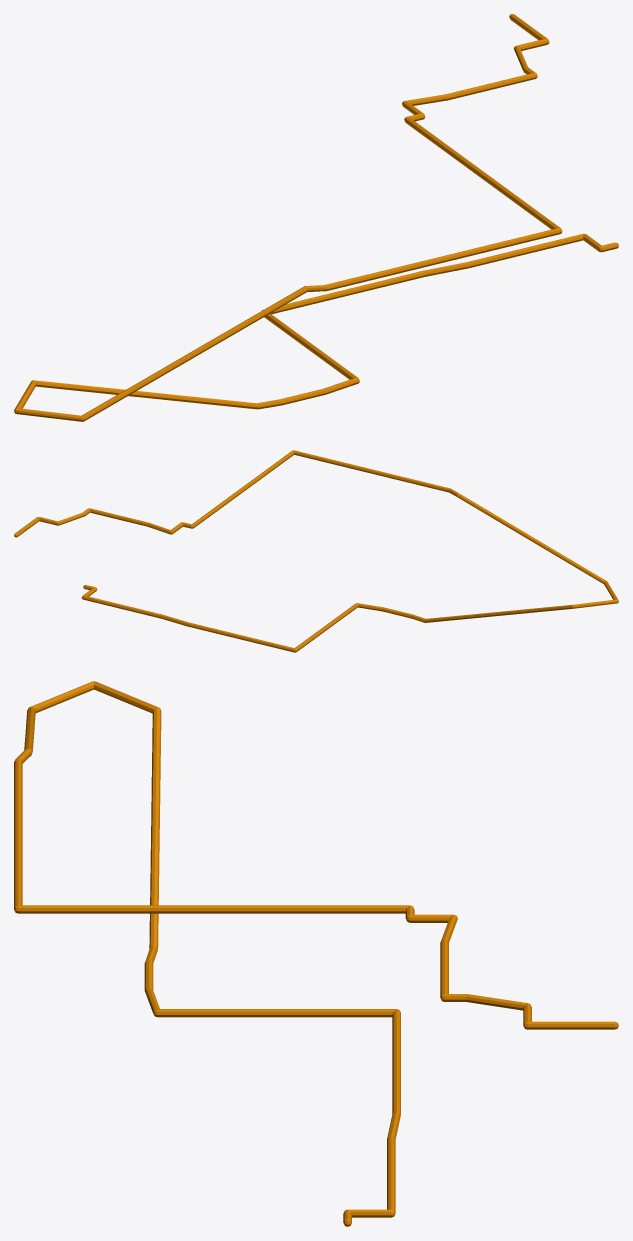
The picture shows the model from 3 angles, top to bottom: view 1: azimuth 30°, elevation 25°; view 2: azimuth 150°, elevation 25°; view 3: azimuth 270°, elevation 25°; orthographic projection. The views are drawn at different scales.
Bounding box in the file's own units: 2406 × 520 × 1390.
